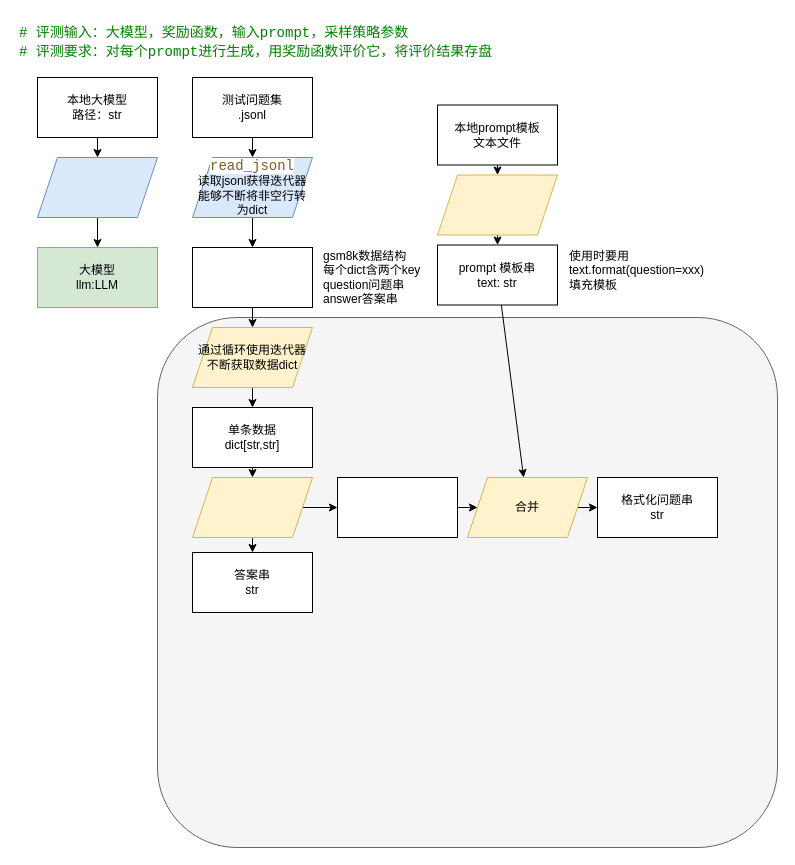
Image size: 795x865. Some labels were removed from this diagram. The shapes that lost their labels are listed below. From the top down, each one's centre as x and y in pixels, then its label:
(x=97, y=187): vllm.LLM 从本地路径读取并创建大模型
(x=497, y=204): with open("...") as f text = f.read()
(x=252, y=277): 迭代器 Iterator[dict[str, Any]]
(x=252, y=507): 分两份
(x=397, y=507): 问题串 str
